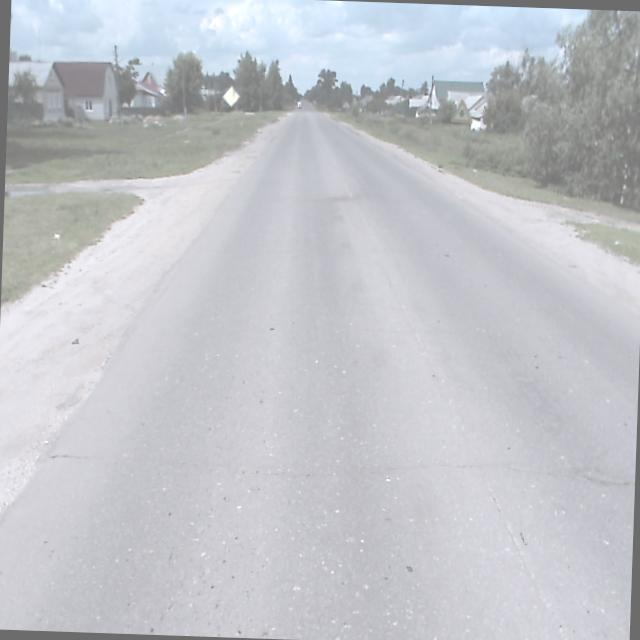road: (0, 100, 640, 640)
